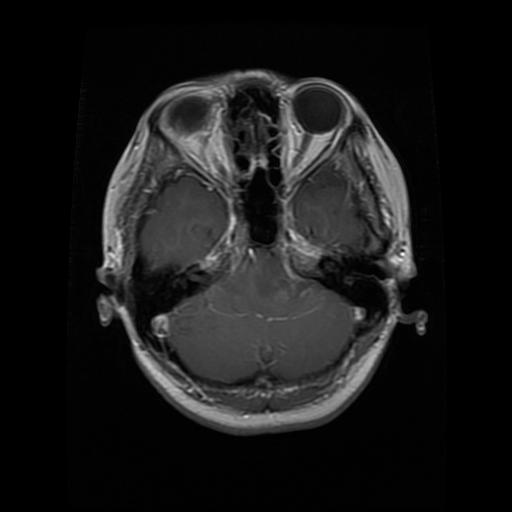Gliomia_tumour: (222, 248, 315, 304)
